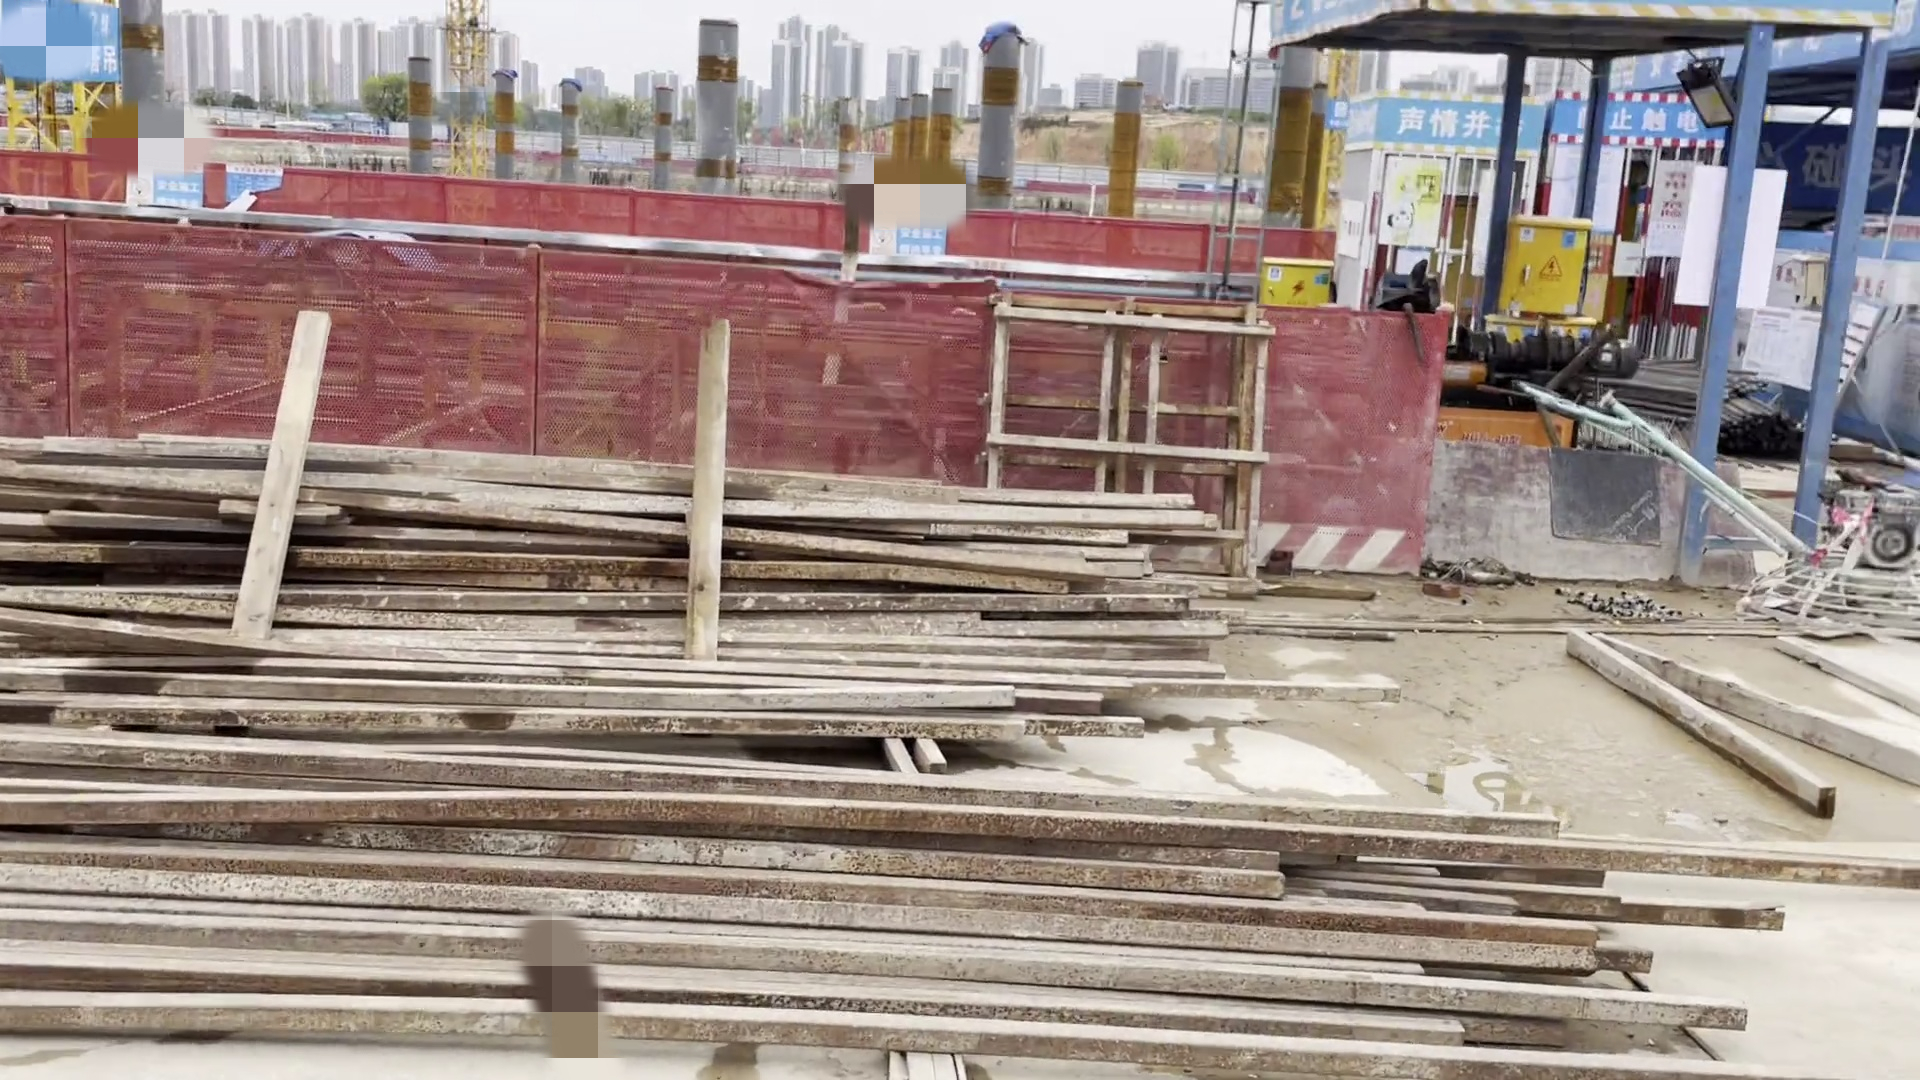ebox: (1493, 218, 1588, 328), (1246, 255, 1338, 306)
fence: (8, 225, 1436, 605)
slogan: (1356, 88, 1720, 162)
wood: (8, 414, 1830, 1080)
